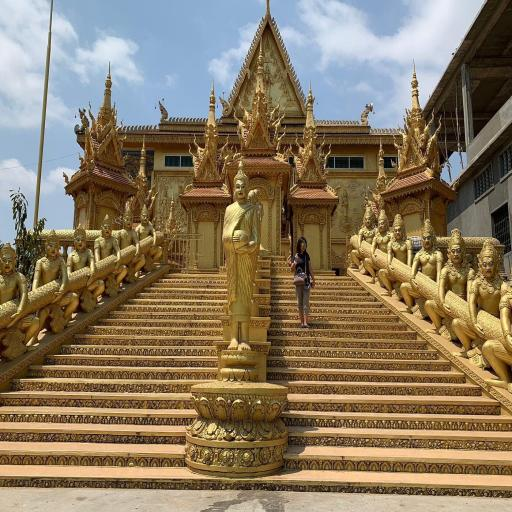lua: (429, 115, 445, 144), (232, 103, 245, 131), (185, 140, 198, 166), (424, 107, 436, 135), (322, 142, 336, 166), (270, 93, 284, 117), (112, 112, 126, 136), (238, 96, 251, 121), (358, 187, 373, 208), (366, 179, 378, 205), (316, 130, 327, 157), (277, 102, 288, 129), (286, 150, 300, 171), (294, 133, 306, 157), (110, 109, 119, 141), (118, 125, 131, 146), (269, 108, 282, 128), (192, 132, 202, 158), (392, 131, 402, 156), (217, 132, 229, 152), (148, 186, 161, 204), (277, 120, 287, 143), (86, 100, 96, 122), (146, 176, 157, 194), (397, 122, 406, 143), (401, 114, 409, 135), (234, 125, 244, 139), (268, 106, 275, 126), (405, 107, 411, 126), (379, 126, 386, 135), (387, 126, 393, 136), (242, 61, 247, 71), (297, 83, 302, 93), (246, 49, 252, 57), (368, 126, 374, 134), (399, 126, 405, 134), (232, 84, 237, 93), (238, 68, 243, 77), (168, 115, 173, 123), (137, 123, 142, 131), (146, 122, 150, 132), (178, 116, 183, 124), (233, 81, 238, 89), (292, 67, 296, 77), (384, 126, 389, 134), (226, 94, 230, 103), (231, 87, 235, 96), (237, 72, 241, 81), (295, 75, 299, 84), (303, 95, 307, 104), (335, 118, 339, 127), (341, 119, 346, 126), (345, 119, 350, 126), (122, 122, 126, 130), (134, 123, 138, 131), (141, 122, 145, 130), (148, 122, 152, 130), (195, 116, 199, 124), (228, 91, 232, 99), (236, 77, 240, 85), (240, 65, 244, 73), (248, 45, 252, 53), (252, 37, 256, 45), (258, 23, 262, 31), (271, 14, 275, 22), (274, 22, 278, 30), (284, 48, 288, 56), (285, 51, 289, 59), (286, 54, 290, 62), (288, 60, 292, 68), (290, 64, 294, 72), (293, 72, 297, 80), (296, 80, 300, 88), (313, 118, 317, 126), (326, 118, 330, 126), (338, 118, 342, 126), (349, 118, 353, 126), (356, 118, 360, 126), (374, 126, 378, 134), (244, 56, 247, 66), (126, 124, 130, 131), (130, 124, 134, 131), (153, 123, 157, 130), (182, 116, 186, 123), (186, 116, 190, 123), (189, 116, 193, 123), (198, 116, 202, 123), (204, 116, 208, 123), (253, 34, 257, 41), (255, 30, 259, 37), (275, 26, 279, 33), (276, 30, 280, 37), (280, 38, 284, 45), (280, 41, 284, 48), (301, 92, 305, 99), (316, 118, 320, 125), (332, 119, 336, 126), (378, 127, 382, 134), (393, 127, 397, 134), (273, 18, 276, 27), (175, 116, 179, 122), (192, 116, 196, 122), (202, 116, 206, 122), (246, 52, 249, 60), (250, 42, 254, 48), (256, 27, 260, 33), (260, 20, 264, 26), (261, 16, 265, 22), (300, 88, 303, 96), (329, 118, 332, 126), (353, 118, 356, 126), (172, 116, 175, 123), (215, 116, 218, 123), (218, 116, 221, 123), (282, 44, 285, 51), (323, 118, 326, 125), (278, 34, 281, 40), (320, 118, 323, 124)
ran: (358, 99, 374, 132), (154, 100, 170, 124), (424, 157, 439, 182), (237, 129, 254, 150), (254, 82, 262, 124), (204, 129, 214, 162), (75, 148, 91, 168), (266, 132, 282, 151), (218, 94, 230, 118), (61, 167, 74, 187), (389, 158, 402, 176), (436, 156, 448, 174), (308, 131, 315, 158), (292, 167, 302, 184), (322, 166, 331, 182), (120, 151, 128, 169), (396, 142, 404, 156)
than: (221, 154, 259, 352), (453, 236, 508, 362), (28, 229, 78, 340), (398, 215, 446, 321), (433, 224, 475, 340), (0, 237, 40, 356), (478, 254, 512, 390), (64, 222, 106, 316), (381, 210, 415, 307), (93, 212, 126, 296), (116, 202, 145, 284), (135, 200, 165, 274), (351, 203, 378, 281), (370, 208, 392, 290), (373, 135, 388, 168)
